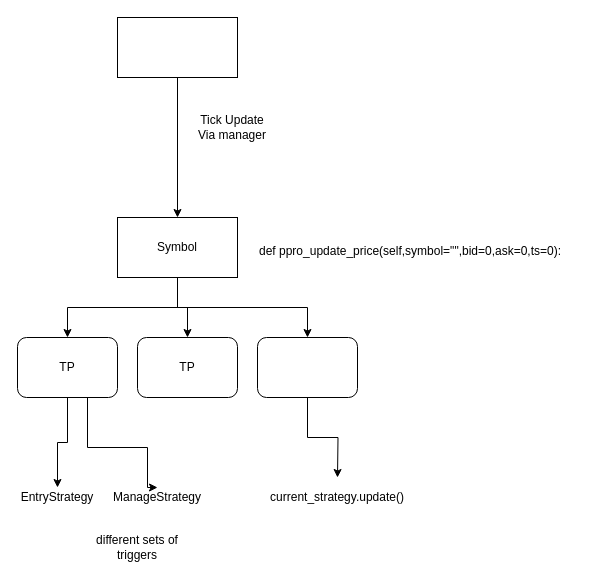
Image size: 605x579. Some labels were removed from this diagram. The centre of each missing label's shape, as x and y in pixels:
"Ppro In" goes at (x=177, y=47).
"PT" goes at (x=307, y=367).
